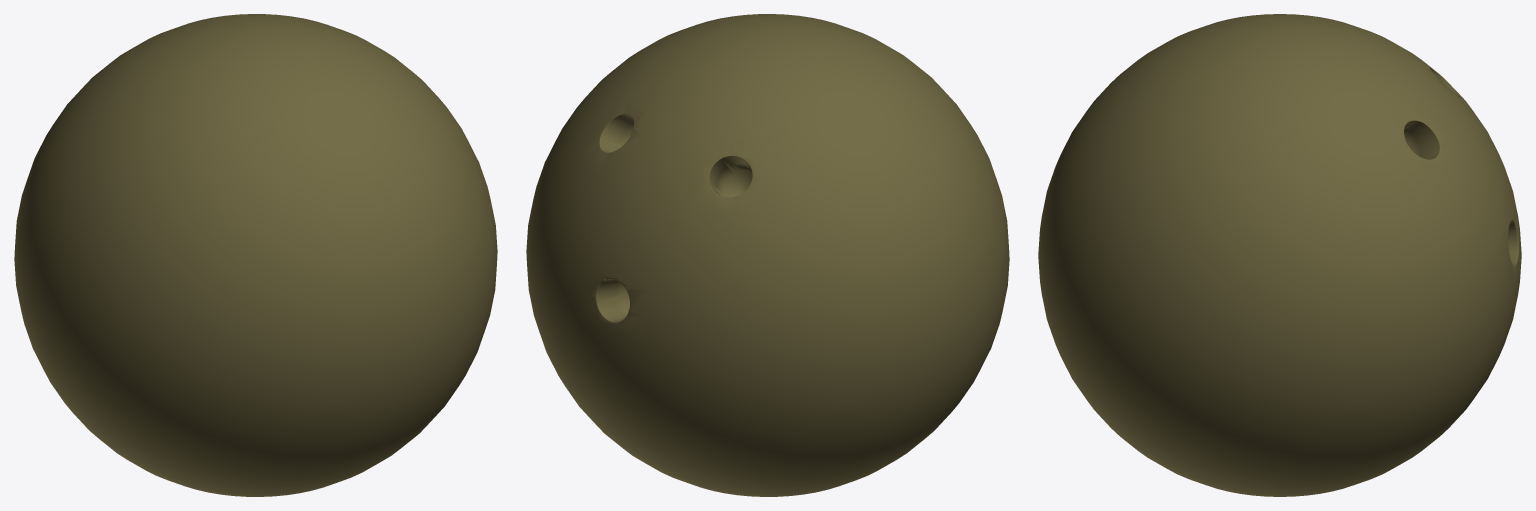
The model's file is ball.fbx.
3 renders of one model, left to right at view 1: azimuth 30°, elevation 25°; view 2: azimuth 150°, elevation 25°; view 3: azimuth 270°, elevation 25°, orthographic.
Parts seen in each view (by area): view 1: Sphere; view 2: Sphere; view 3: Sphere.
Boxes of the visible parts, x1,y1,x2,y2 form: Sphere: [14, 14, 497, 496]; Sphere: [526, 14, 1009, 496]; Sphere: [1038, 14, 1521, 496].
Size of the model in its own units: 21 by 21 by 21.
